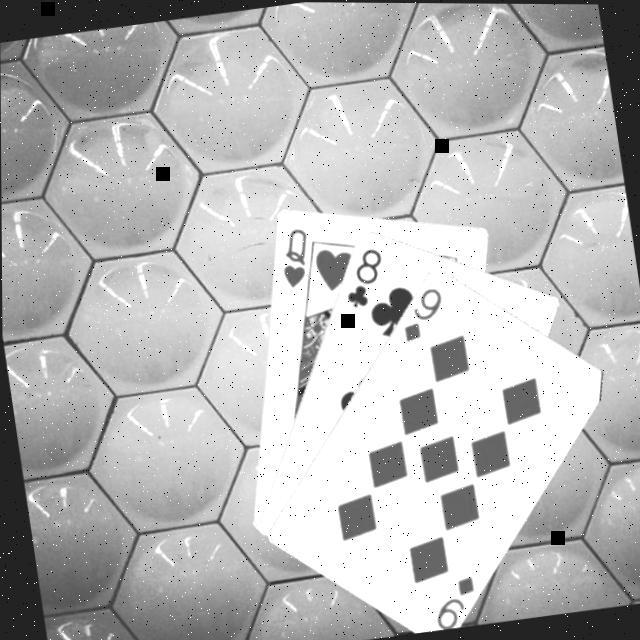8C: (334, 240, 388, 310)
9D: (391, 280, 449, 344), (424, 568, 480, 630)
QH: (270, 222, 315, 290)
